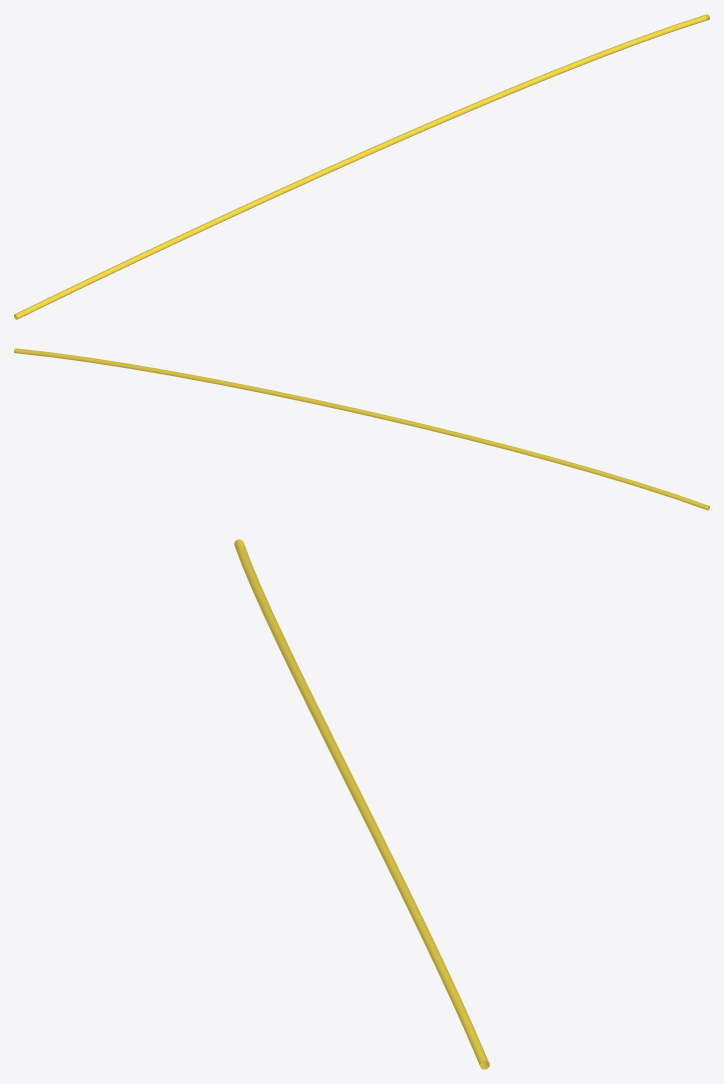
File: Event_17758602_track_55.fbx
3 renders of one model, top to bottom at view 1: azimuth 30°, elevation 25°; view 2: azimuth 150°, elevation 25°; view 3: azimuth 270°, elevation 25°, orthographic. The views are drawn at different scales.
Visible parts, largest first — view 1: Model; view 2: Model; view 3: Model.
Part boxes in pixels (box(x1,y1,x2,y2)): Model: box(14, 14, 709, 319); Model: box(14, 348, 709, 510); Model: box(234, 539, 489, 1069).
Bounding box in the file's own units: 5.9 × 0.4828 × 1.03.
